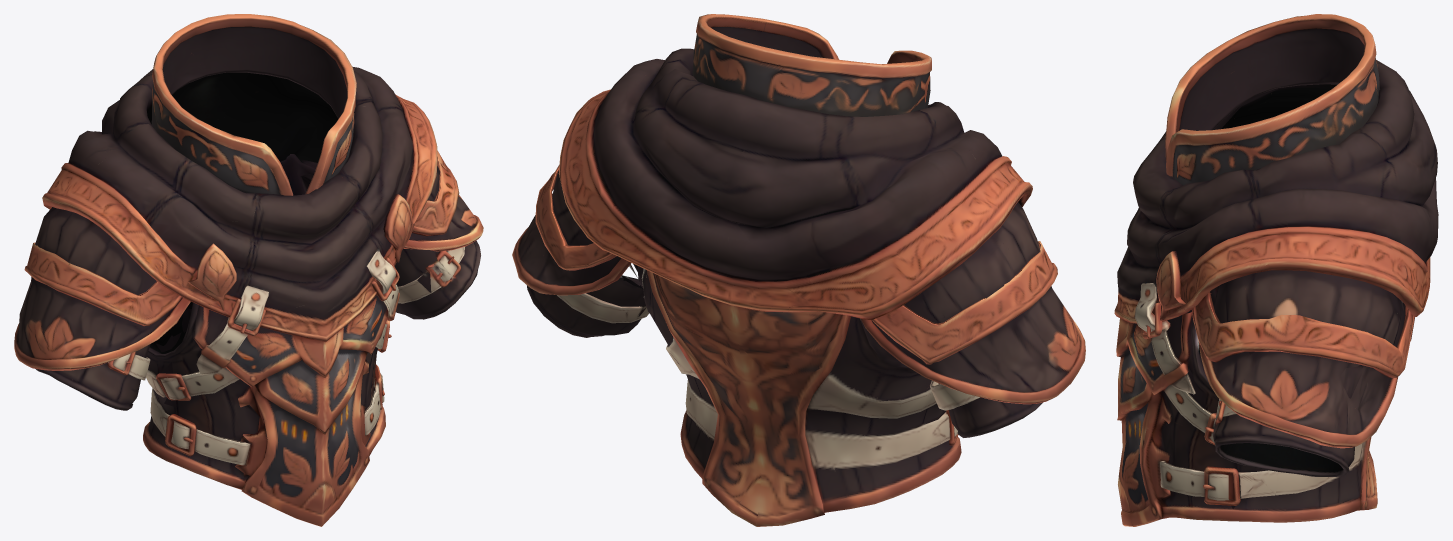
The model's file is Wear_BossB.fbx.
3 views of the same model, side by side, from view 1: azimuth 30°, elevation 25°; view 2: azimuth 150°, elevation 25°; view 3: azimuth 270°, elevation 25° (orthographic). The views are drawn at different scales.
Parts seen in each view (by area): view 1: Wear_BossB; view 2: Wear_BossB; view 3: Wear_BossB.
Part boxes in pixels (left/top/right/bottom): Wear_BossB: left=14, top=14, right=483, bottom=526; Wear_BossB: left=512, top=14, right=1085, bottom=526; Wear_BossB: left=1114, top=14, right=1438, bottom=526.
Size of the model in its own units: 0.4 by 0.3602 by 0.2195.
